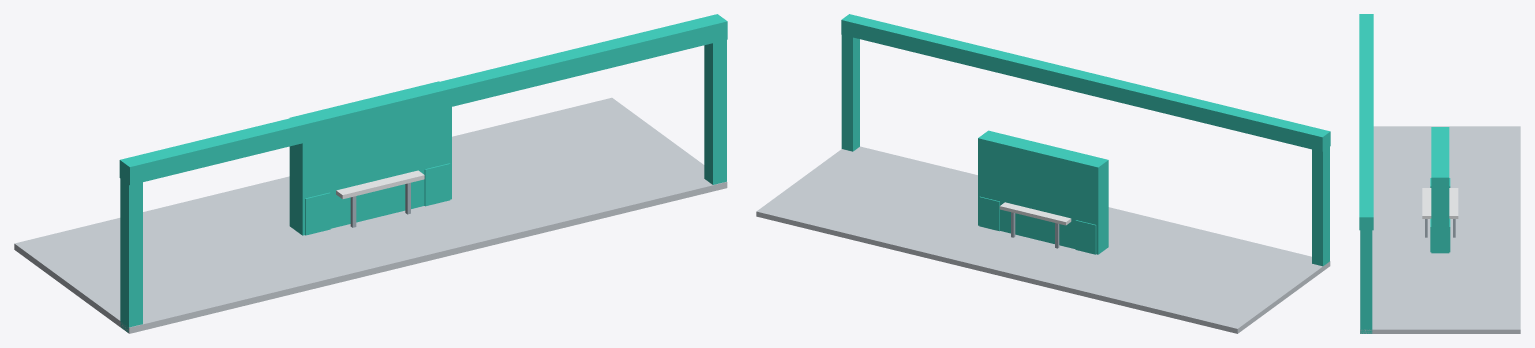
3 renders of one model, left to right at view 1: azimuth 30°, elevation 25°; view 2: azimuth 150°, elevation 25°; view 3: azimuth 270°, elevation 25°, orthographic. The views are drawn at different scales.
Parts seen in each view (by area): view 1: Exhibition Booth Concept; view 2: Exhibition Booth Concept; view 3: Exhibition Booth Concept.
Boxes of the visible parts, <box> form: Exhibition Booth Concept: <box>14,14,727,333</box>; Exhibition Booth Concept: <box>756,14,1330,333</box>; Exhibition Booth Concept: <box>1359,14,1520,333</box>.
Size of the model in its own units: 12 by 3.2 by 4.02.
